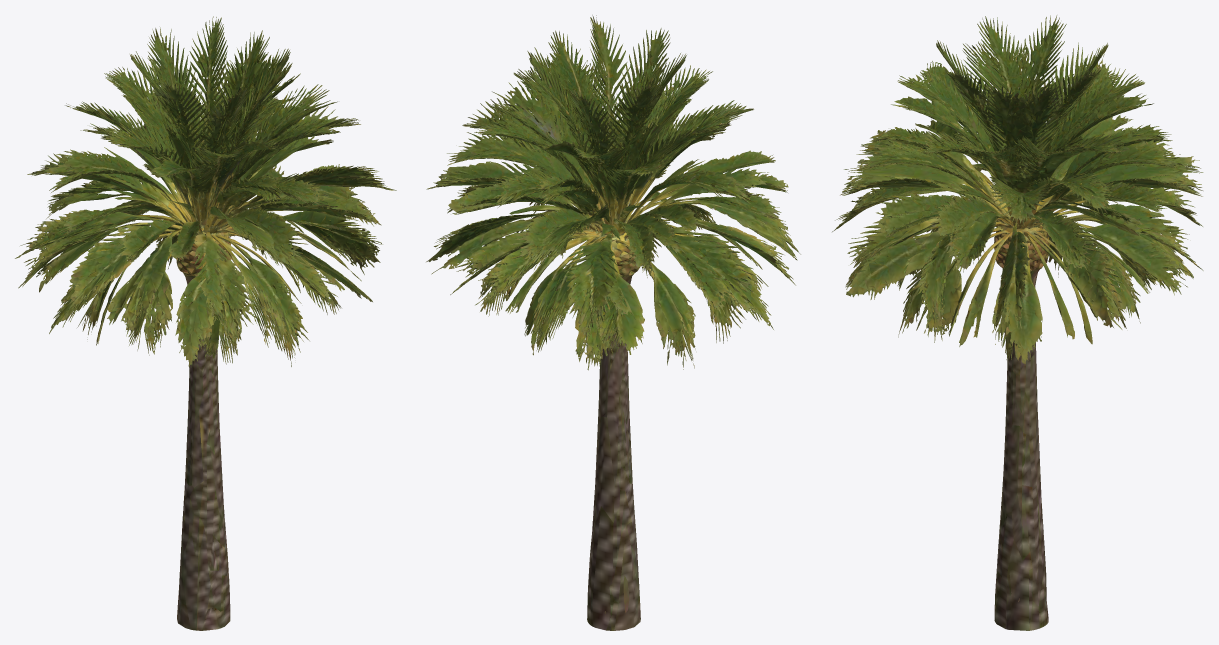
Rendered from palm2.glb.
3 views of the same model, side by side, from view 1: azimuth 30°, elevation 25°; view 2: azimuth 150°, elevation 25°; view 3: azimuth 270°, elevation 25° (orthographic).
Visible parts, largest first — view 1: output_unwrapped; view 2: output_unwrapped; view 3: output_unwrapped.
Boxes of the visible parts, x1,y1,x2,y2 form: output_unwrapped: (15, 16, 396, 630); output_unwrapped: (426, 15, 800, 630); output_unwrapped: (832, 15, 1203, 630).
Bounding box in the file's own units: 0.6107 × 0.9988 × 0.5837.
1 material, 1 textured.
